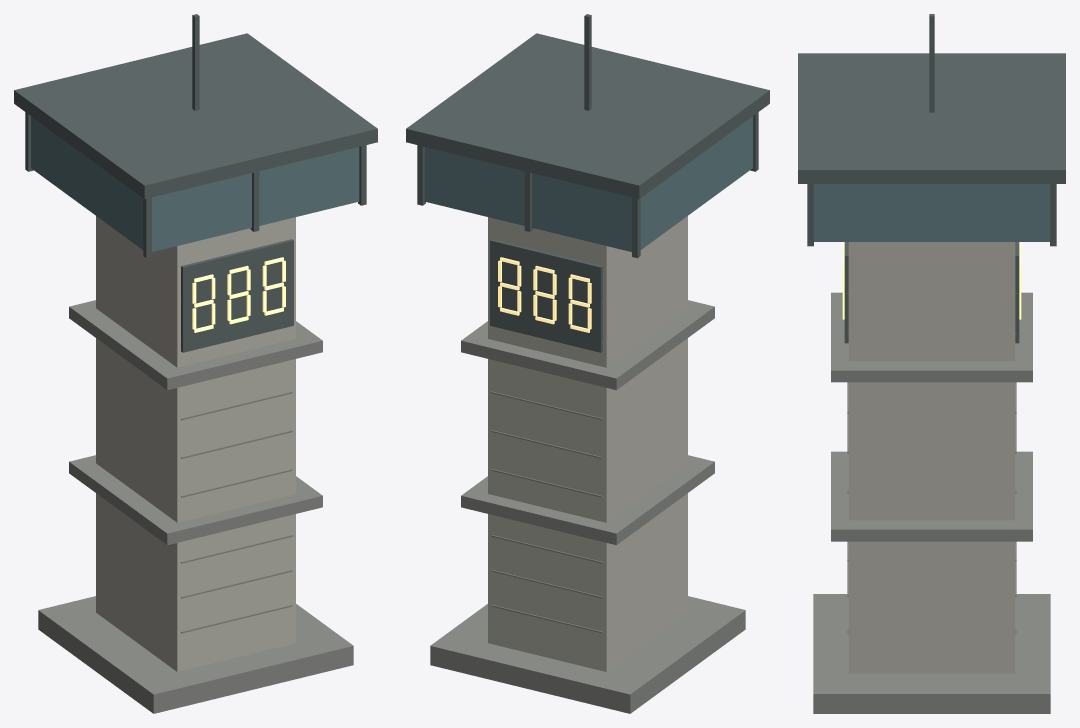
The model's file is forest-timing-tower.glb.
3 renders of one model, left to right at view 1: azimuth 30°, elevation 25°; view 2: azimuth 150°, elevation 25°; view 3: azimuth 270°, elevation 25°, orthographic. The views are drawn at different scales.
Visible parts, largest first — view 1: forest-timing-tower; view 2: forest-timing-tower; view 3: forest-timing-tower.
Boxes of the visible parts, bbox=[...] form: forest-timing-tower: bbox=[14, 14, 377, 713]; forest-timing-tower: bbox=[406, 14, 769, 713]; forest-timing-tower: bbox=[798, 14, 1065, 713].
Size of the model in its own units: 6.3 by 16.3 by 6.1.
